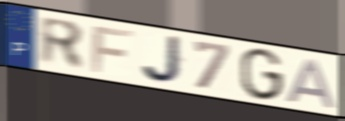7: (191, 38, 232, 93)
A: (284, 57, 339, 111)
F: (89, 25, 136, 75)
G: (239, 47, 286, 103)
J: (140, 34, 186, 86)
R: (37, 14, 87, 73)
